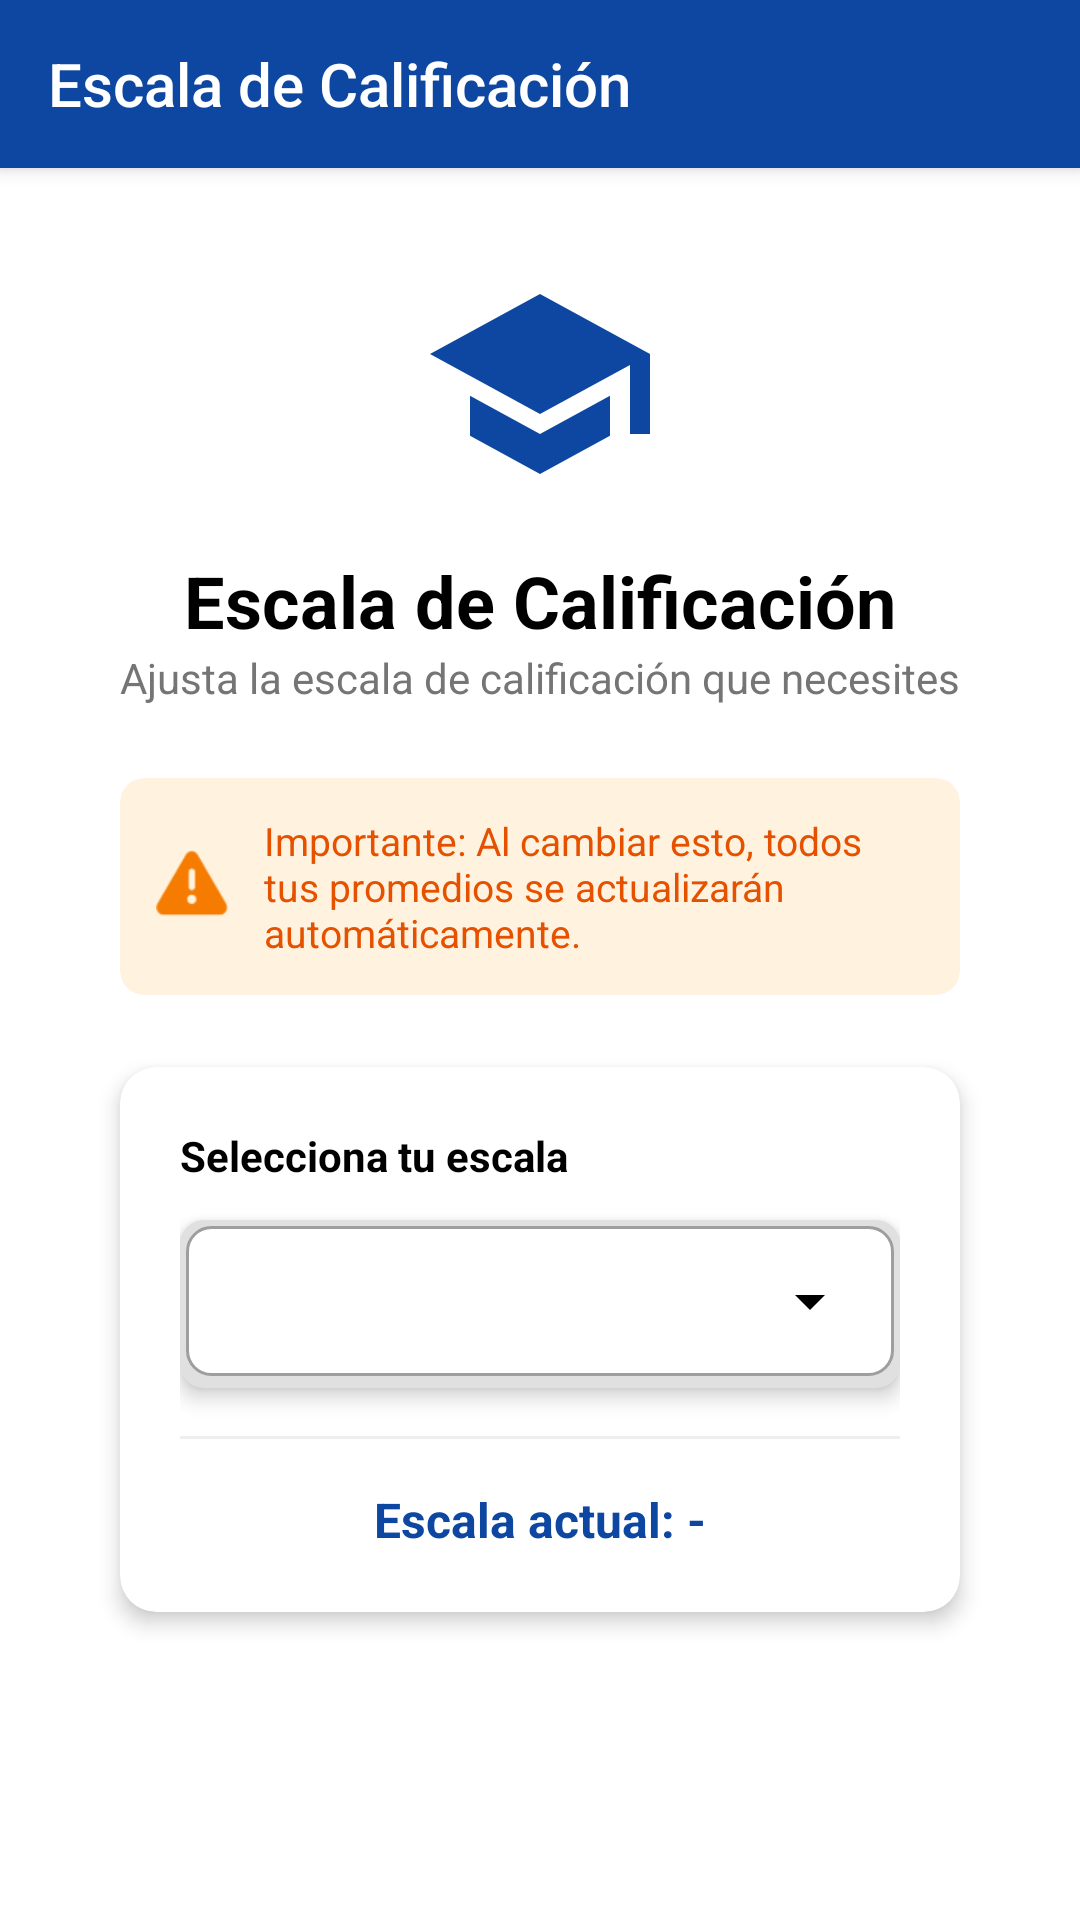

Named icons in this screenshot (1080 x 1920) and their bounding boxes, (x1, y1, x2, y2):
alert: (156, 850, 228, 916)
